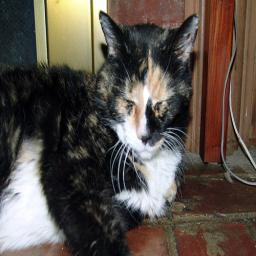catnose: (136, 128, 152, 143)
